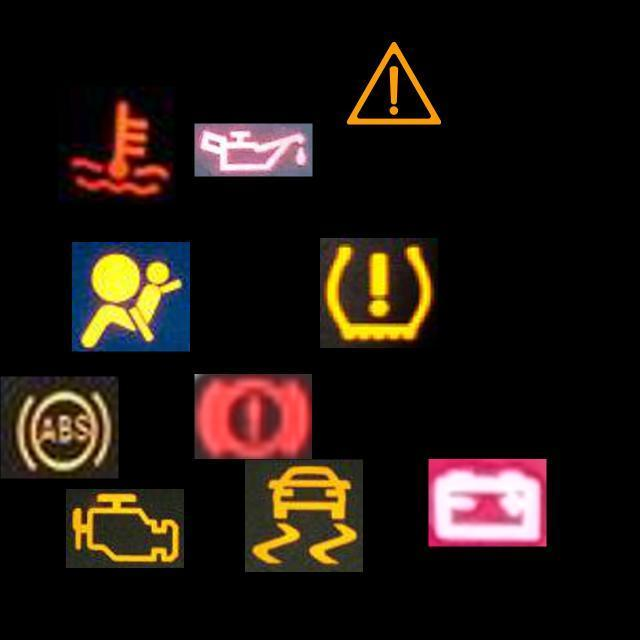Central Warning lamp: (335, 24, 453, 142)
Engine cooling system: (58, 86, 176, 205)
